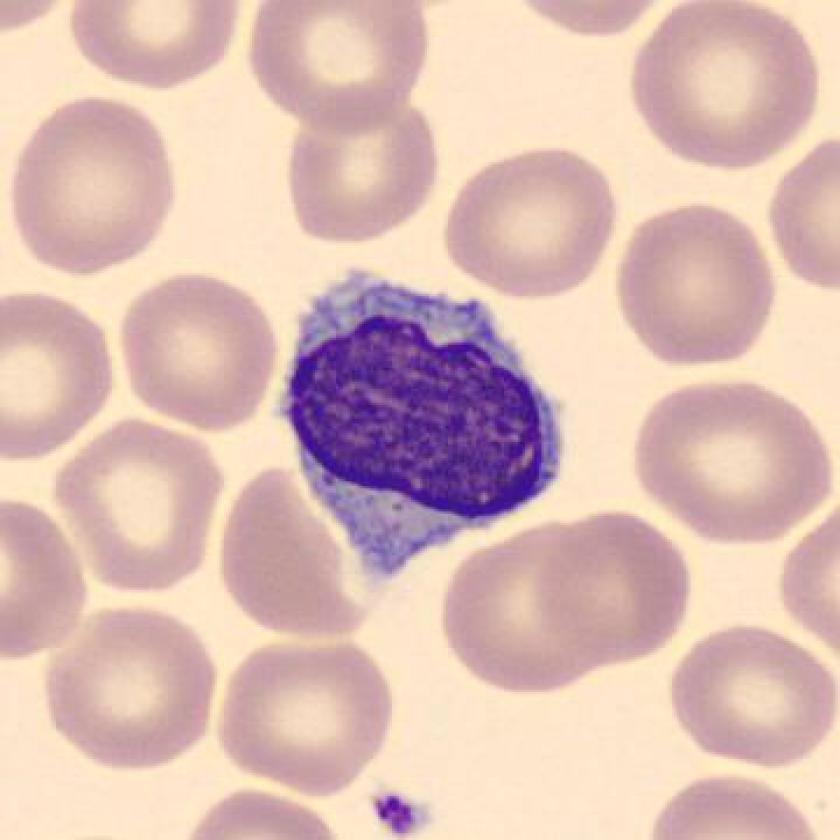lymphocyte: (267, 253, 575, 603)
